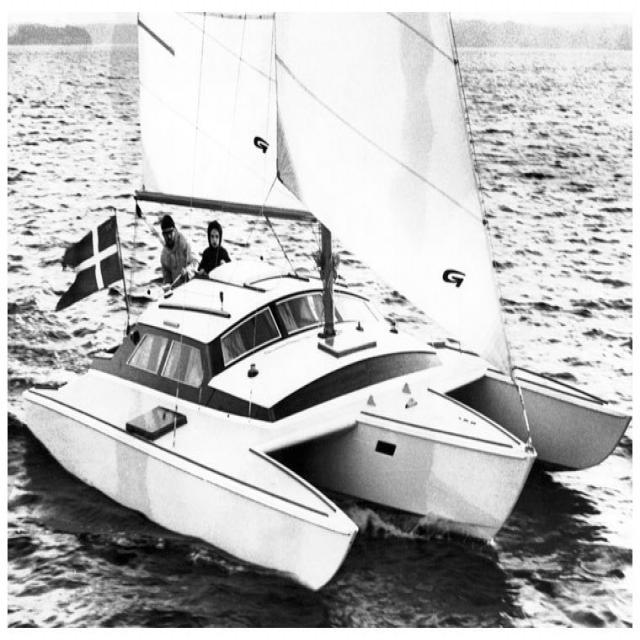Ship: (10, 1, 640, 595)
